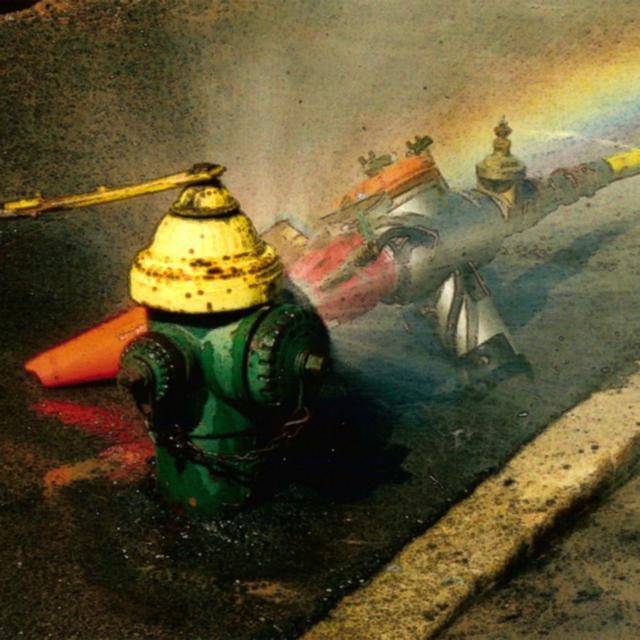fire_hydrant: (6, 152, 337, 509)
